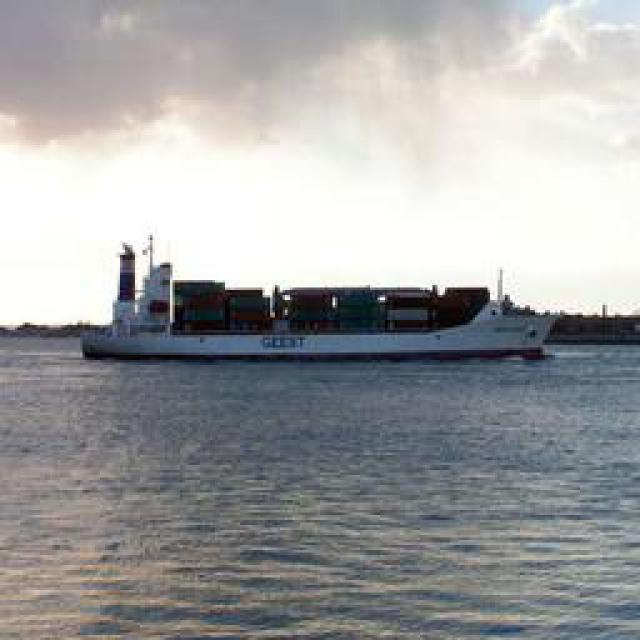Ship: (84, 265, 557, 365)
